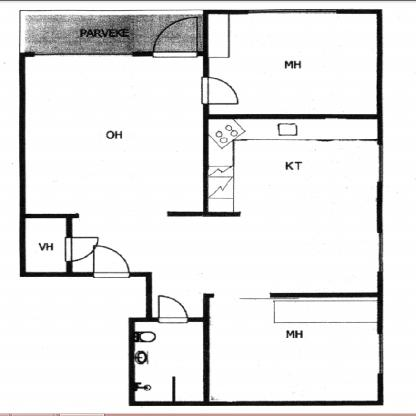door: (155, 15, 200, 62), (90, 244, 132, 279), (157, 294, 188, 326), (204, 76, 237, 106), (66, 236, 102, 260)
window: (28, 52, 131, 58), (375, 233, 385, 272), (375, 144, 382, 182)
zone: (23, 57, 376, 292), (210, 297, 378, 400), (205, 14, 378, 114), (20, 10, 202, 51), (135, 320, 202, 400), (22, 217, 68, 273)
